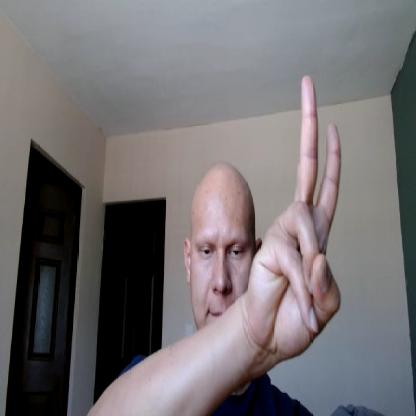V: (247, 72, 342, 362)
